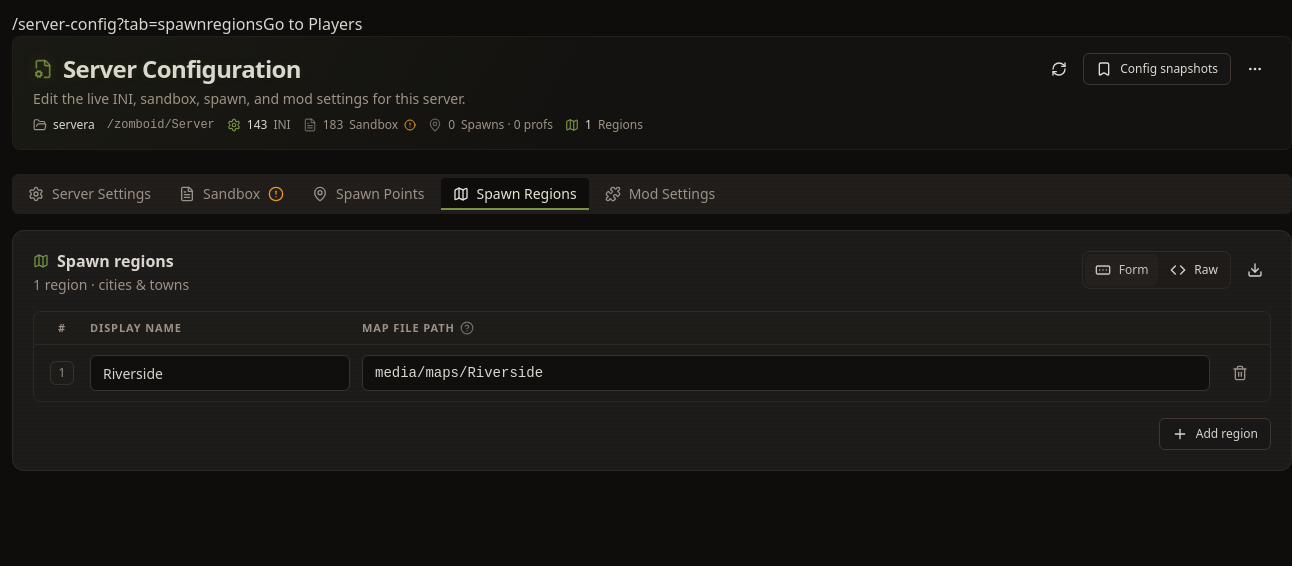
Test case: Server Configuration: Spawn Regions edits are unsaved changes › shows the SaveBar with Discard, and saving clears it
Expected: the button "save" is not shown
Step 1. Replace the text in the field showing "Riverside" with "Riverside West" → {"x": 220, "y": 373}, box [90,355,350,391]
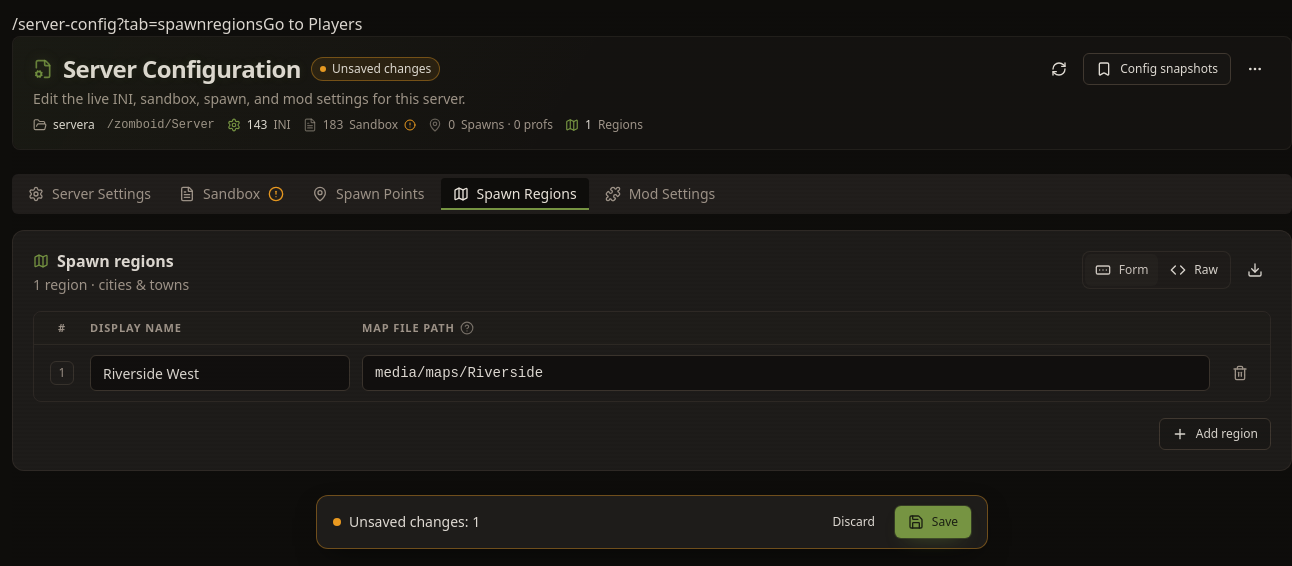
Expected: the text "Unsaved changes: 1" is shown, [349,512,480,532]
Step 2. Click the button "Discard" → {"x": 854, "y": 522}, box [821,506,887,538]
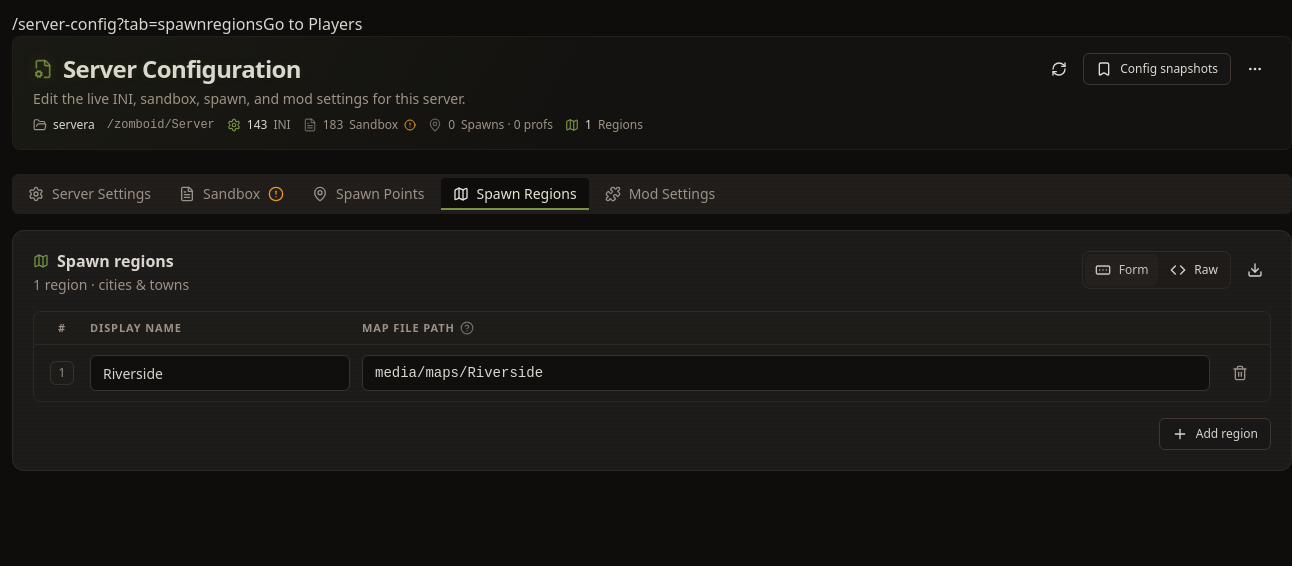
Expected: the button "Save" is gone
Step 3. Replace the text in the field showing "Riverside" with "Riverside West" → {"x": 220, "y": 373}, box [90,355,350,391]
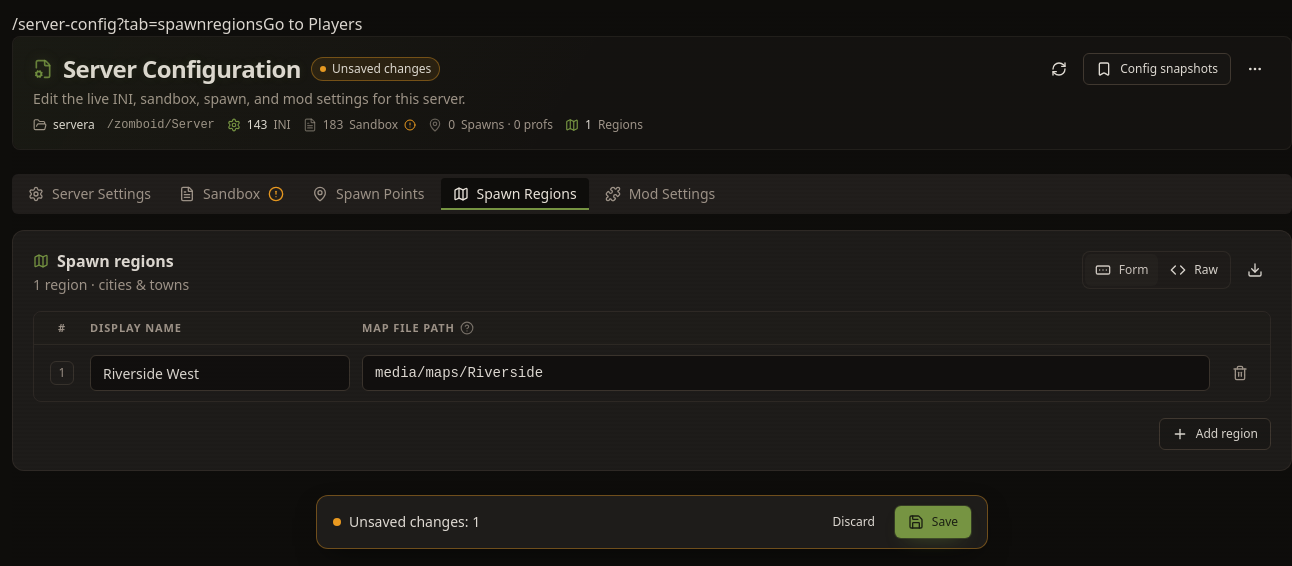
Step 4. Click the button "Save" → {"x": 933, "y": 522}, box [895,506,971,538]
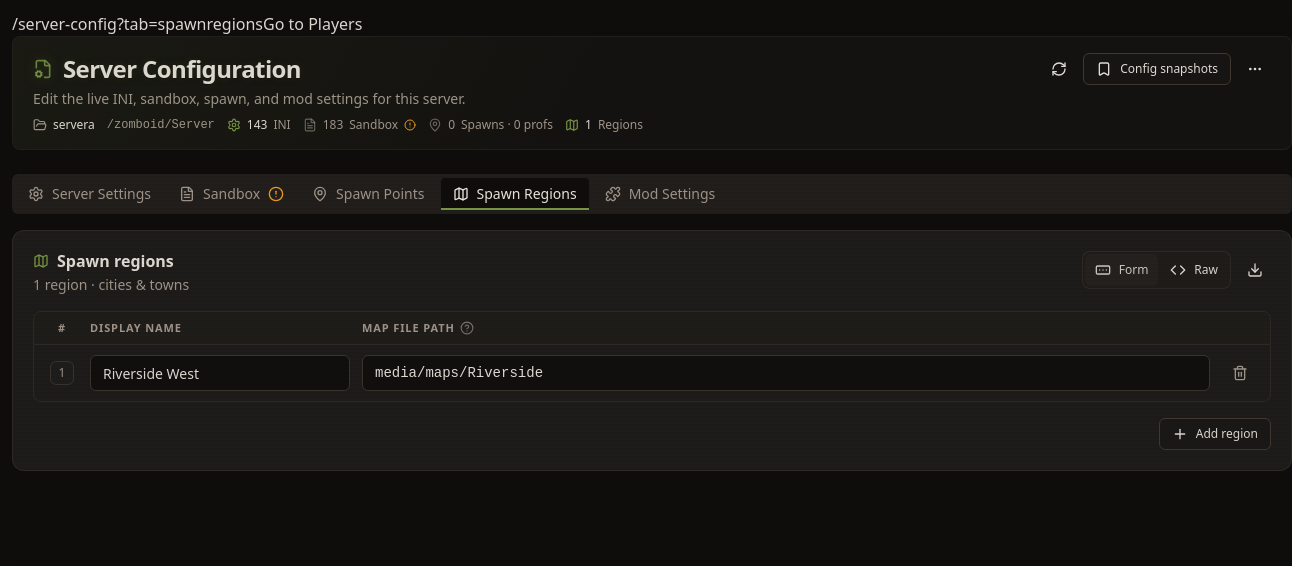
Expected: the button "Save" is gone
